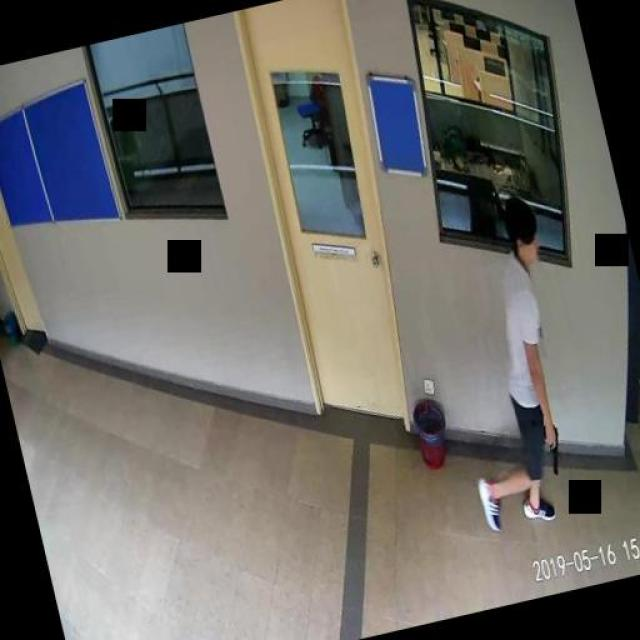gun: (539, 419, 565, 475)
